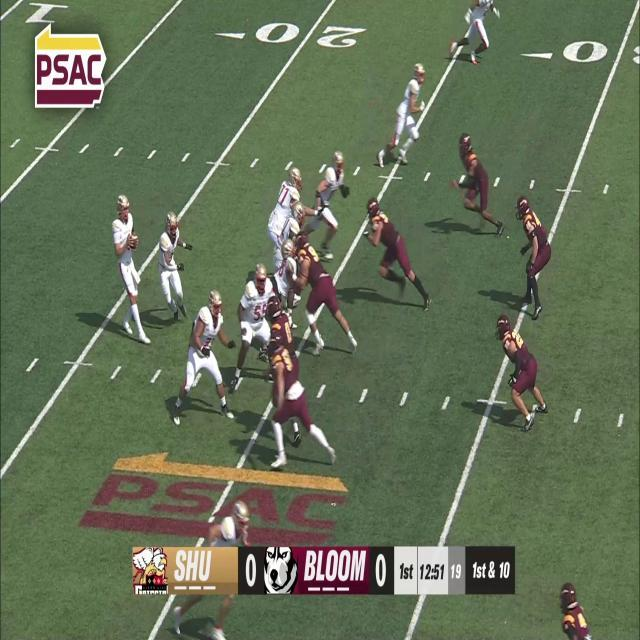football: (128, 231, 140, 251)
